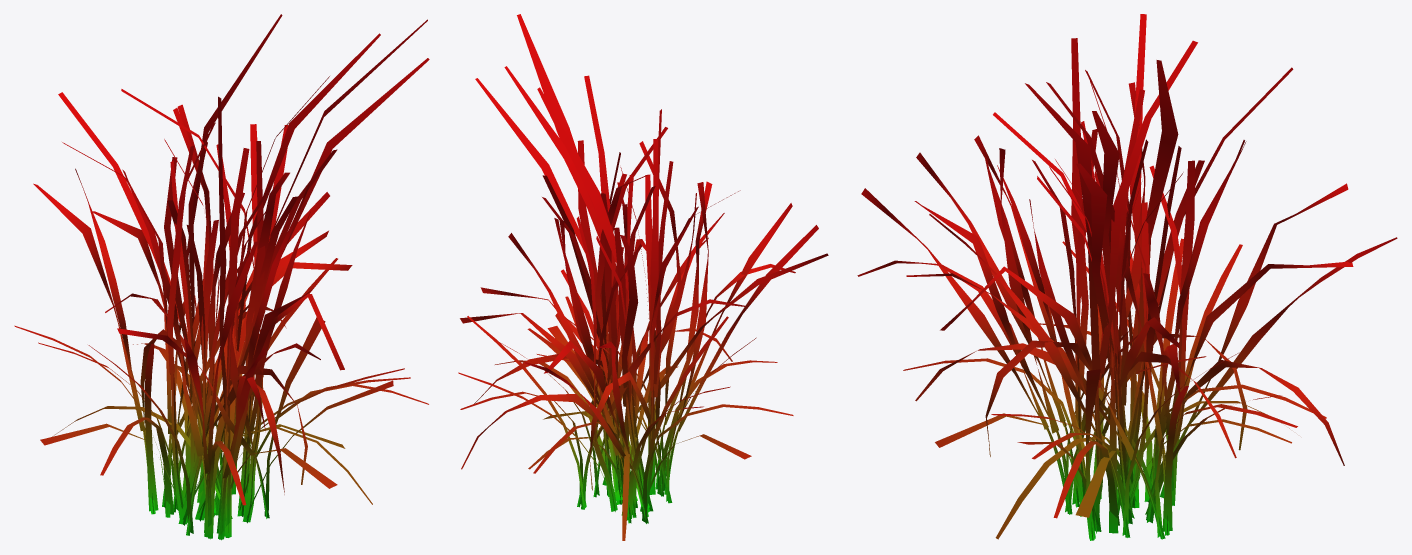
The model's file is Lemongrass_LOD2_Var5_sktne.fbx.
The picture shows the model from 3 angles, left to right: view 1: azimuth 30°, elevation 25°; view 2: azimuth 150°, elevation 25°; view 3: azimuth 270°, elevation 25°; orthographic projection. The views are drawn at different scales.
Parts seen in each view (by area): view 1: _c56b_Var5_LOD2; view 2: _c56b_Var5_LOD2; view 3: _c56b_Var5_LOD2.
Boxes of the visible parts, x1,y1,x2,y2 form: _c56b_Var5_LOD2: [14, 14, 429, 540]; _c56b_Var5_LOD2: [458, 14, 828, 540]; _c56b_Var5_LOD2: [857, 14, 1397, 540].
Bounding box in the file's own units: 51.27 × 67.17 × 62.36.
